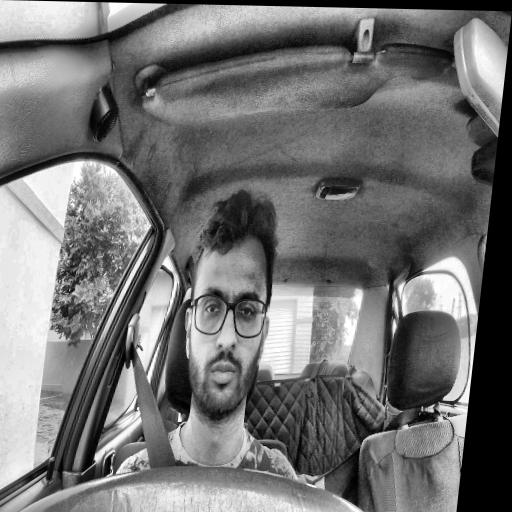awake: (174, 190, 285, 423)
